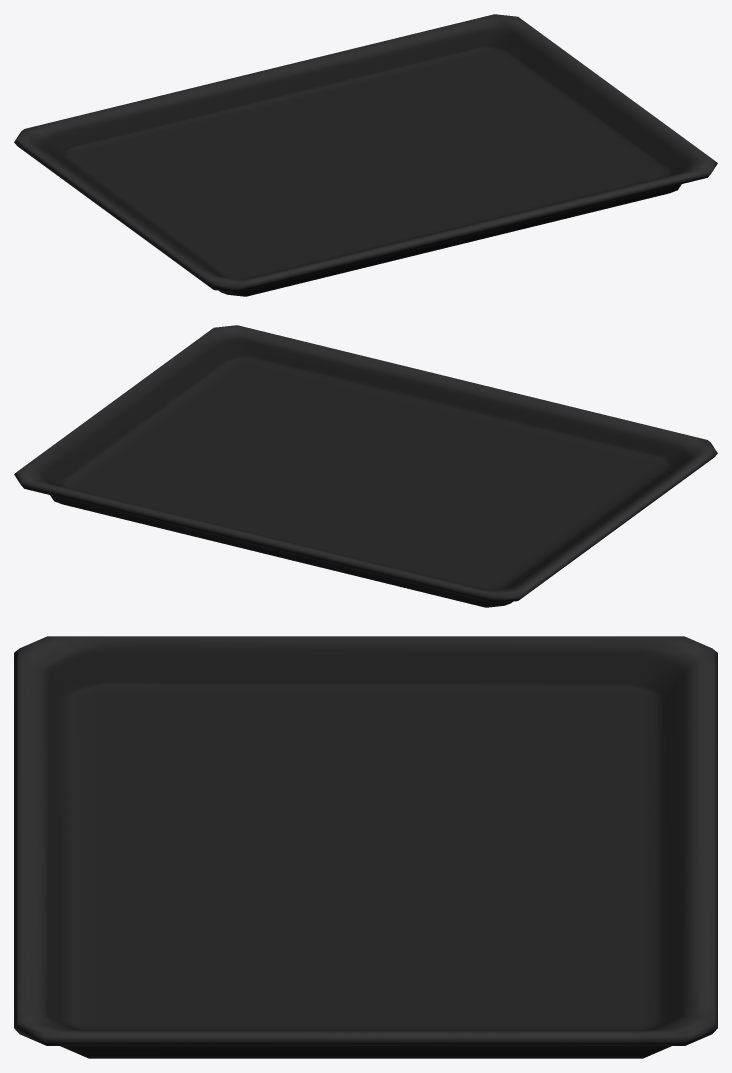
The model's file is Tray_Wide.fbx.
The picture shows the model from 3 angles, top to bottom: view 1: azimuth 30°, elevation 25°; view 2: azimuth 150°, elevation 25°; view 3: azimuth 270°, elevation 25°; orthographic projection. The views are drawn at different scales.
Parts seen in each view (by area): view 1: Tray_Wide; view 2: Tray_Wide; view 3: Tray_Wide.
Boxes of the visible parts, <box> form: Tray_Wide: <box>14,14,717,296</box>; Tray_Wide: <box>14,325,717,607</box>; Tray_Wide: <box>14,636,717,1058</box>.
Bounding box in the file's own units: 143 × 7.66 × 106.
